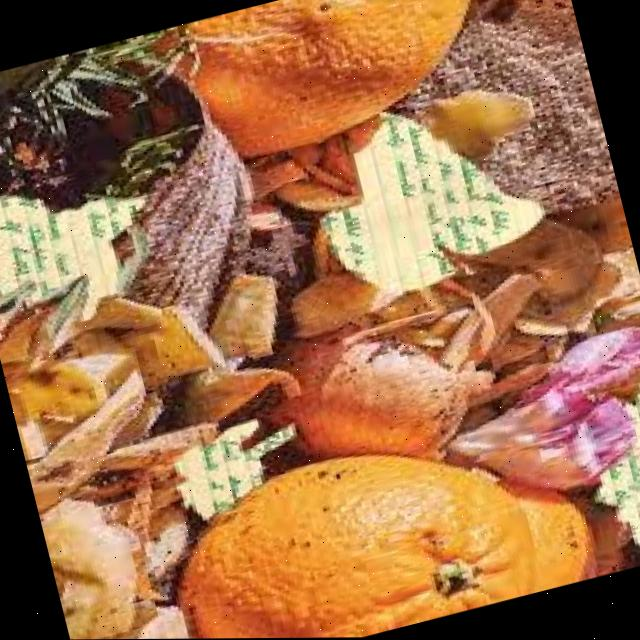Wet: (0, 0, 640, 640), (107, 391, 629, 639), (56, 0, 535, 220)
